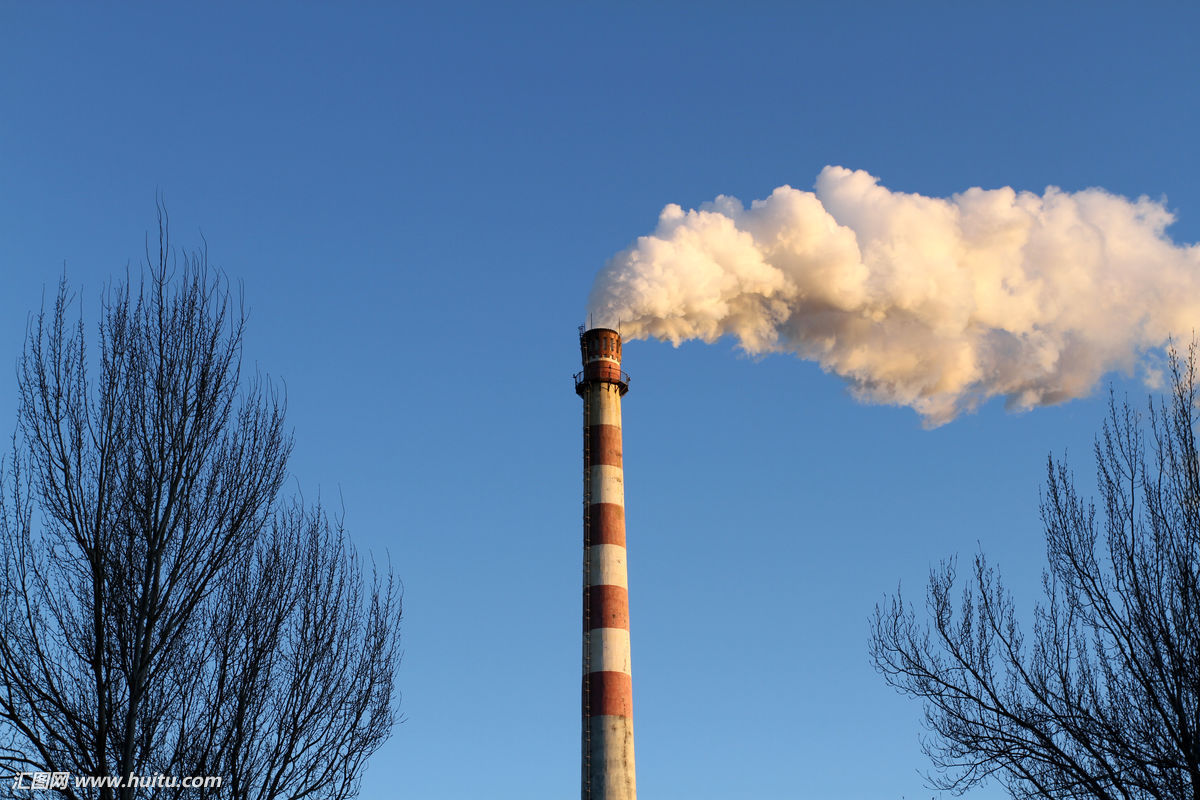dust: (576, 112, 1126, 404)
